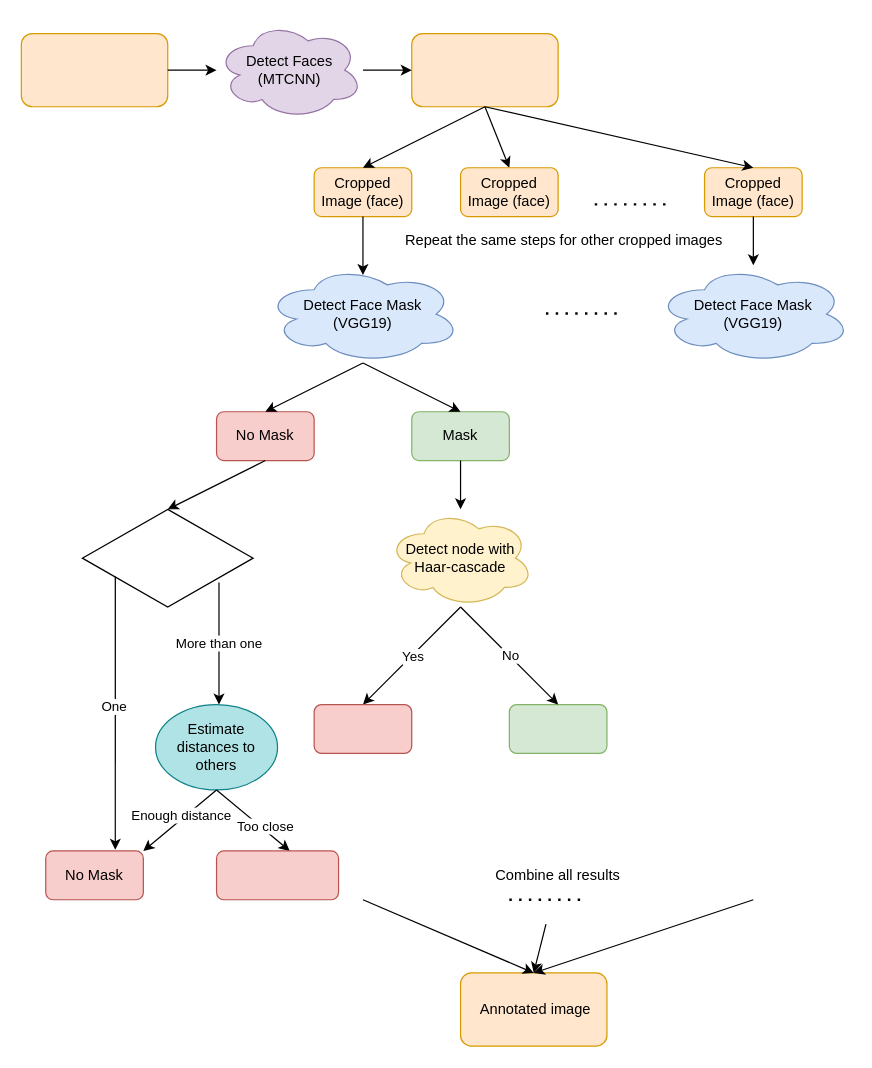
This 872x1068 diagram has some shape labels left out. The box of each missing label's shape, as (x1, y1, x2, y2) in pixels:
How may people are in the image?: (81, 508, 253, 607)
Input Image: (20, 32, 168, 107)
Mask (valid): (508, 703, 607, 753)
Mask below nose: (313, 703, 412, 753)
No Mask & No Social Distance: (215, 850, 339, 900)
Output Image with detected faces: (411, 32, 558, 107)
